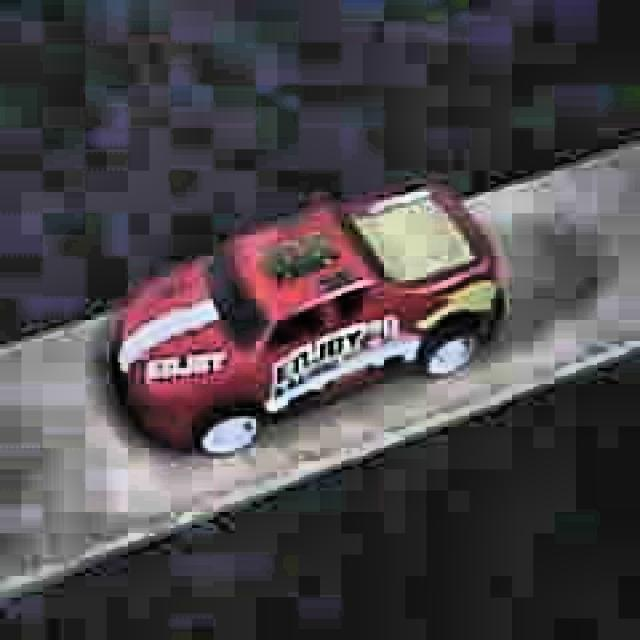car: (106, 183, 508, 462)
